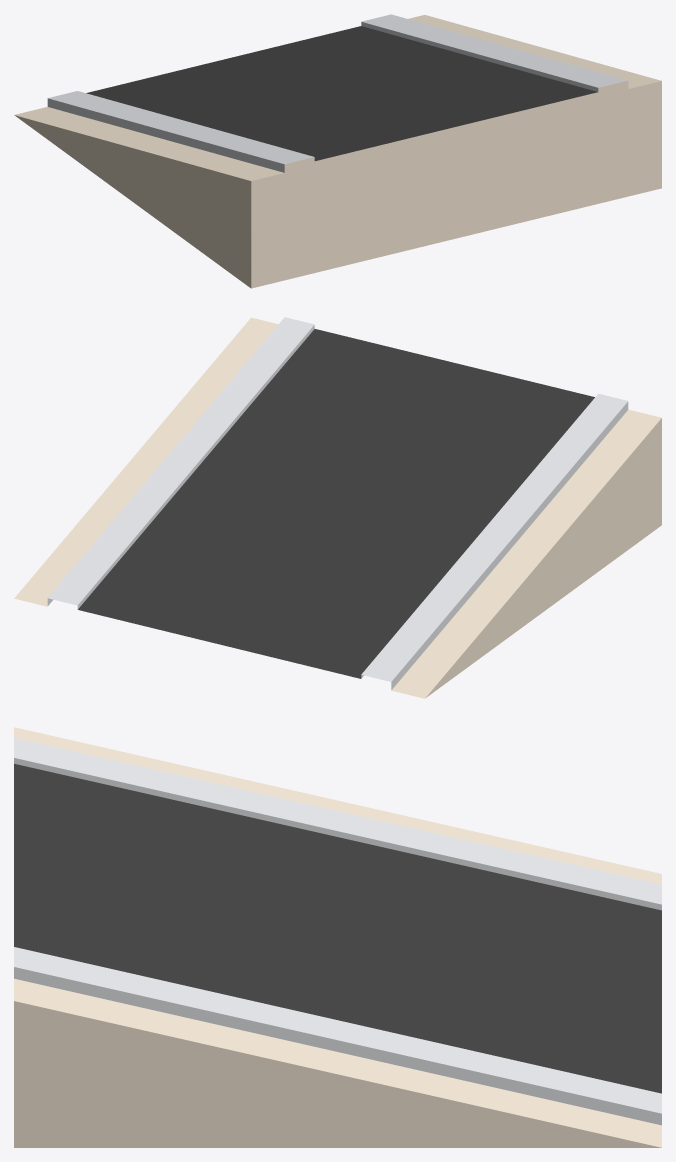
File: roadRampWall.obj
3 renders of one model, top to bottom at view 1: azimuth 30°, elevation 25°; view 2: azimuth 150°, elevation 25°; view 3: azimuth 270°, elevation 25°, orthographic. The views are drawn at different scales.
Parts seen in each view (by area): view 1: roadRampWall; view 2: roadRampWall; view 3: roadRampWall.
Part boxes in pixels (x1=…): roadRampWall: x1=14, y1=14, x2=661, y2=288; roadRampWall: x1=14, y1=317, x2=661, y2=698; roadRampWall: x1=14, y1=727, x2=661, y2=1147.
Size of the model in its own units: 1 by 0.27 by 1.
